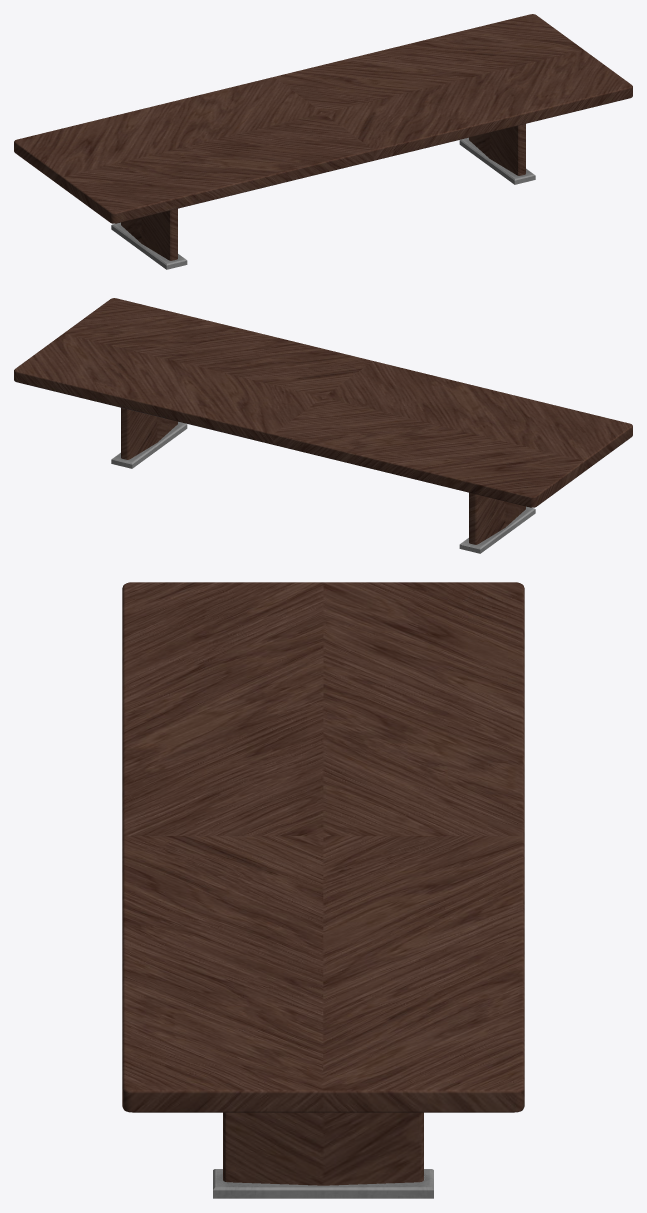
3 renders of one model, top to bottom at view 1: azimuth 30°, elevation 25°; view 2: azimuth 150°, elevation 25°; view 3: azimuth 270°, elevation 25°, orthographic. The views are drawn at different scales.
Visible parts, largest first — view 1: ConferenceTable1; view 2: ConferenceTable1; view 3: ConferenceTable1.
Boxes of the visible parts, x1,y1,x2,y2 form: ConferenceTable1: [14, 14, 632, 269]; ConferenceTable1: [14, 298, 632, 553]; ConferenceTable1: [122, 582, 524, 1198].
Size of the model in its own units: 600 by 100 by 200.
1 material, 1 textured.
